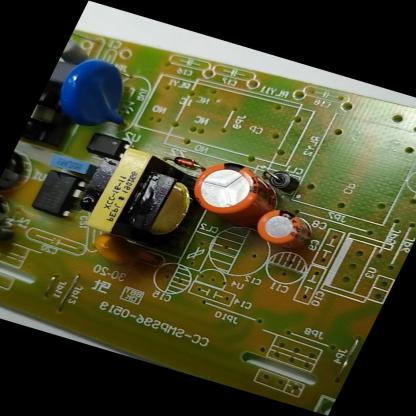Cap1: (181, 153, 289, 230)
Cap2: (249, 202, 320, 252)
Cap3: (0, 142, 40, 201)
Cap4: (0, 192, 20, 254)
MOSFET: (25, 165, 94, 222)
Mov: (42, 50, 147, 136)
Resistor: (59, 33, 95, 66)
Transformer: (74, 142, 222, 259), (18, 84, 91, 155)
